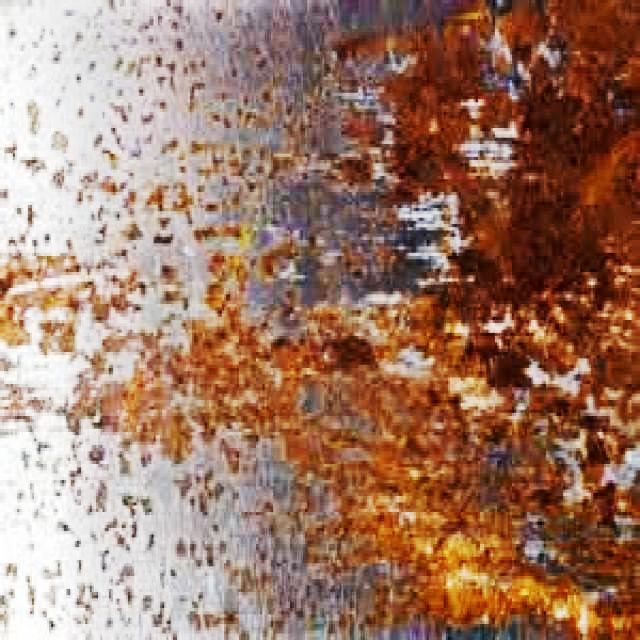Corrosion: (0, 0, 640, 640), (0, 443, 385, 640)
